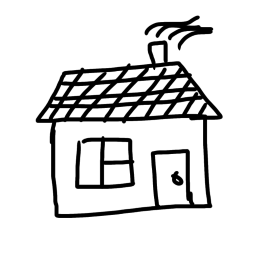closed_window: (72, 134, 137, 192)
door: (146, 144, 197, 215)
roof: (24, 60, 226, 129)
smoking_chimney: (141, 13, 216, 77)
wall: (45, 111, 216, 222)
